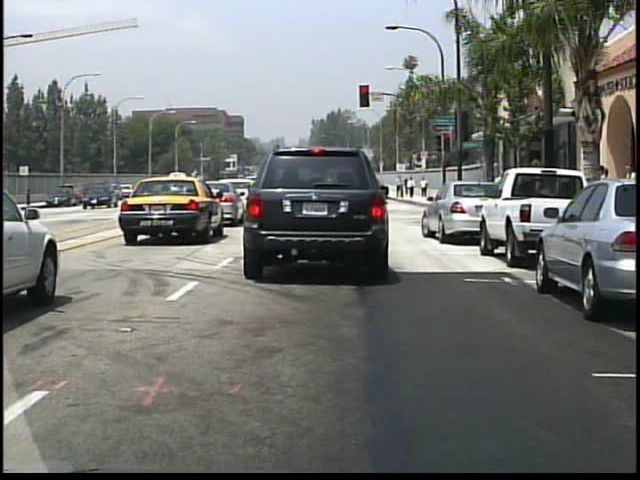person: (591, 163, 614, 235), (420, 177, 430, 200), (397, 175, 406, 199), (409, 176, 417, 200)
